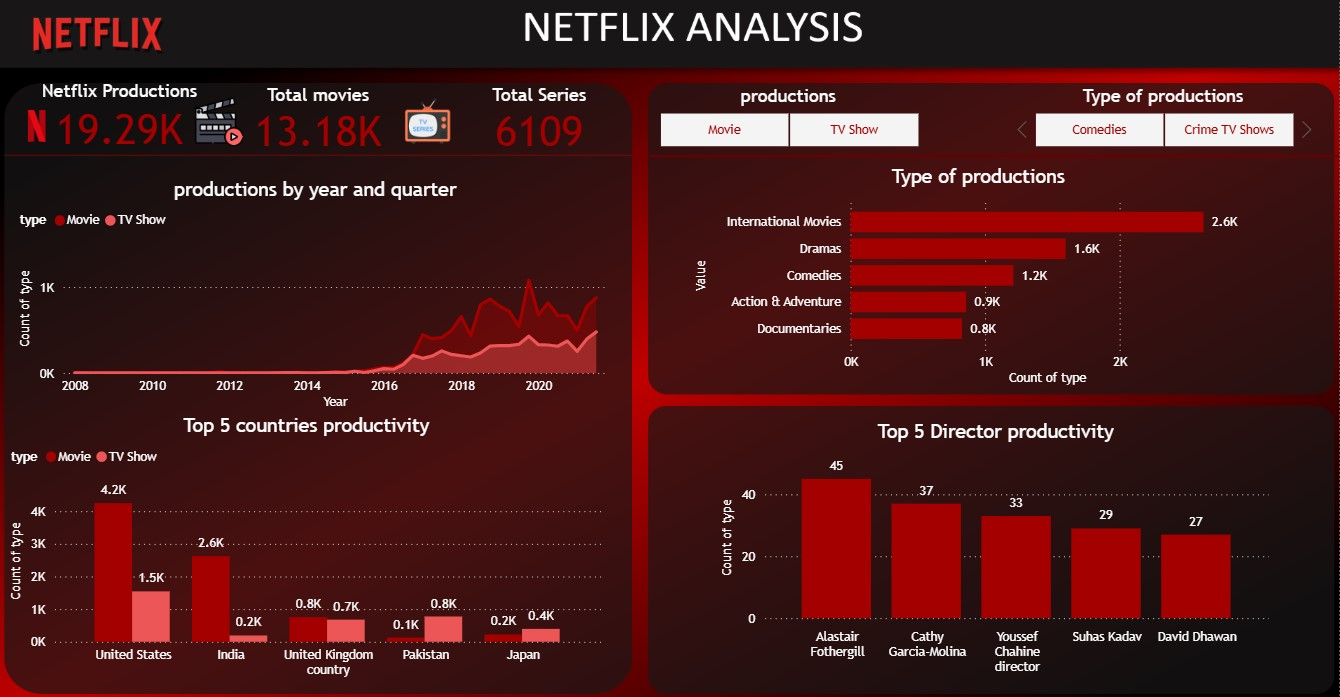

The page's visual inventory and layout, read from the dashboard file:
{"tool":"powerbi","page":{"name":"Page 1","canvas":[1280,720],"ordinal":0},"visuals":[{"type":"card","title":"Netflix Productions","fields":{"Values":["CountNonNull(netflix1.type)"]},"box":[35.8,81.1,162.1,70.3],"z":0},{"type":"card","title":"Total movies ","fields":{"Values":["CountNonNull(netflix1.type)"]},"box":[226.5,84.6,159.7,66.8],"z":1000},{"type":"card","title":"Total Series","fields":{"Values":["CountNonNull(netflix1.type)"]},"box":[437.5,84.6,159.7,66.8],"z":2000},{"type":"image","box":[16.7,104.9,41.7,40.5],"z":3000},{"type":"image","box":[183.6,93,56,56],"z":4000},{"type":"image","box":[380.3,90.6,60.8,59.6],"z":5000},{"type":"lineChart","title":"productions by year and quarter","fields":{"Category":["netflix1.date_added.Variation.Date Hierarchy.Year","netflix1.date_added.Variation.Date Hierarchy.Quarter","netflix1.date_added.Variation.Date Hierarchy.Month","netflix1.date_added.Variation.Date Hierarchy.Day"],"Y":["CountNonNull(netflix1.type)"],"Series":["netflix1.type"]},"box":[16.7,174,573.4,225.3],"z":6000},{"type":"clusteredColumnChart","title":"Top 5 countries productivity ","fields":{"Category":["netflix1.country"],"Y":["CountNonNull(netflix1.type)"],"Series":["netflix1.type"]},"box":[8.3,399.3,573.4,256.3],"z":7000},{"type":"clusteredBarChart","title":"Type of productions","fields":{"Y":["CountNonNull(netflix1.type)"],"Category":["netflix1.Value"]},"box":[661.6,162.1,548.3,214.6],"z":8000},{"type":"clusteredColumnChart","title":"Top 5 Director productivity","fields":{"Category":["netflix1.director"],"Y":["CountNonNull(netflix1.type)"]},"box":[686.6,405.3,531.6,246.7],"z":9000},{"type":"shape","box":[622,46.5,658,214.6],"z":10000},{"type":"slicer","title":"productions ","fields":{"Values":["netflix1.type"]},"box":[606.7,85.8,295.6,65.6],"z":11000},{"type":"slicer","title":" Type of productions ","fields":{"Values":["netflix1.Value"]},"box":[964.4,85.8,295.6,65.6],"z":11001}]}

Visuals, with their boxes on the page's 1280x720 design canvas (x1, y1, x2, y2). These are canvas units, not pixel positions in the 1340x697 screenshot, which may show the page scaled, cropped or inside an application window:
"Netflix Productions" card: box=[36, 81, 198, 151]
"Total movies " card: box=[226, 85, 386, 151]
"Total Series" card: box=[438, 85, 597, 151]
image: box=[17, 105, 58, 145]
image: box=[184, 93, 240, 149]
image: box=[380, 91, 441, 150]
"productions by year and quarter" lineChart: box=[17, 174, 590, 399]
"Top 5 countries productivity " clusteredColumnChart: box=[8, 399, 582, 656]
"Type of productions" clusteredBarChart: box=[662, 162, 1210, 377]
"Top 5 Director productivity" clusteredColumnChart: box=[687, 405, 1218, 652]
shape: box=[622, 46, 1280, 261]
"productions " slicer: box=[607, 86, 902, 151]
" Type of productions " slicer: box=[964, 86, 1260, 151]
